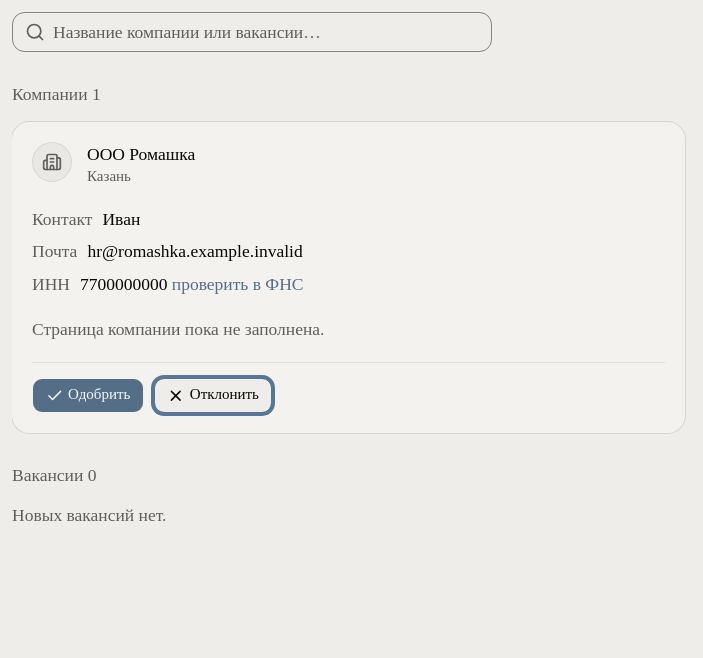
Test: модерация студплатформы: «Отклонить» компанию и вакансию › причина короче пяти знаков: ошибка в блоке, действие не вызвано, блок открыт
Click the button "Отклонить": (213, 396) [154,378,272,413]
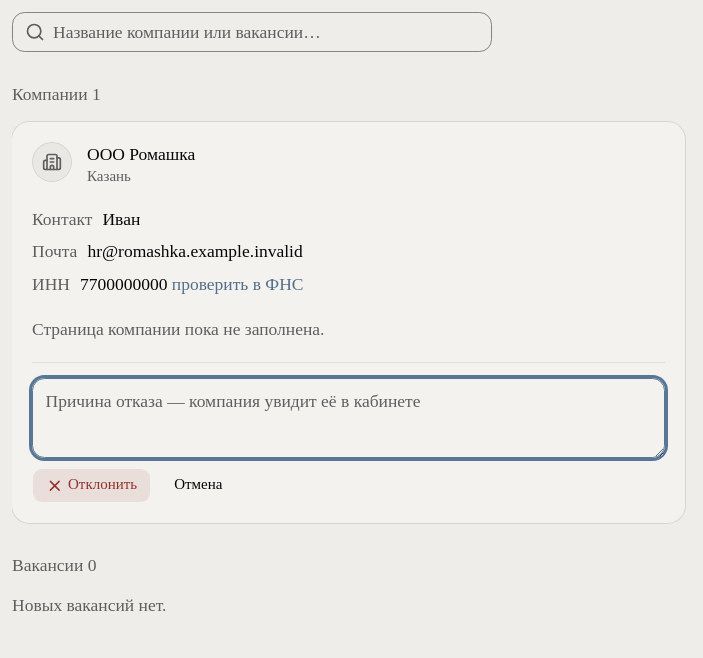
In the text box with placeholder "Причина отказа — компания увидит её в кабинете": (348, 418) [32,378,665,458], type "нет"
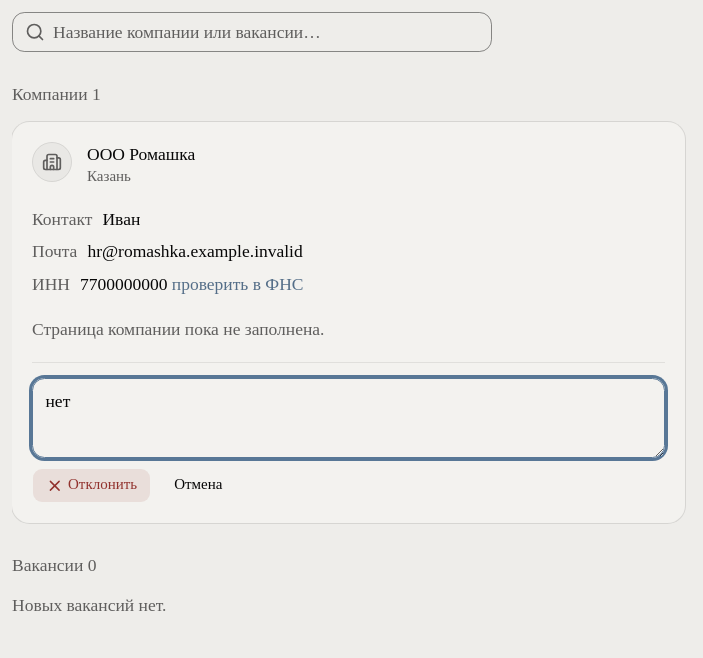
Click the button "Отклонить": (91, 486) [32,468,151,503]
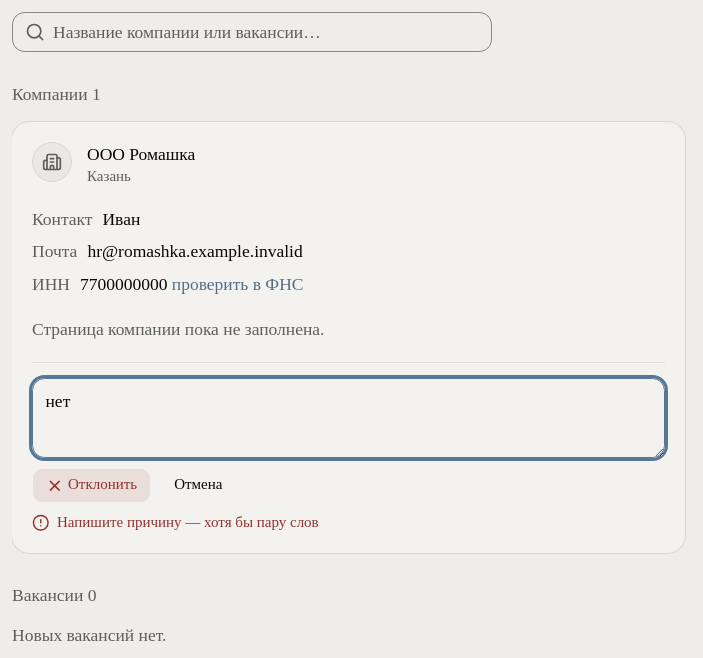
Check: the message reads "Напишите причину — хотя бы пару слов", box [57,514,319,530]
